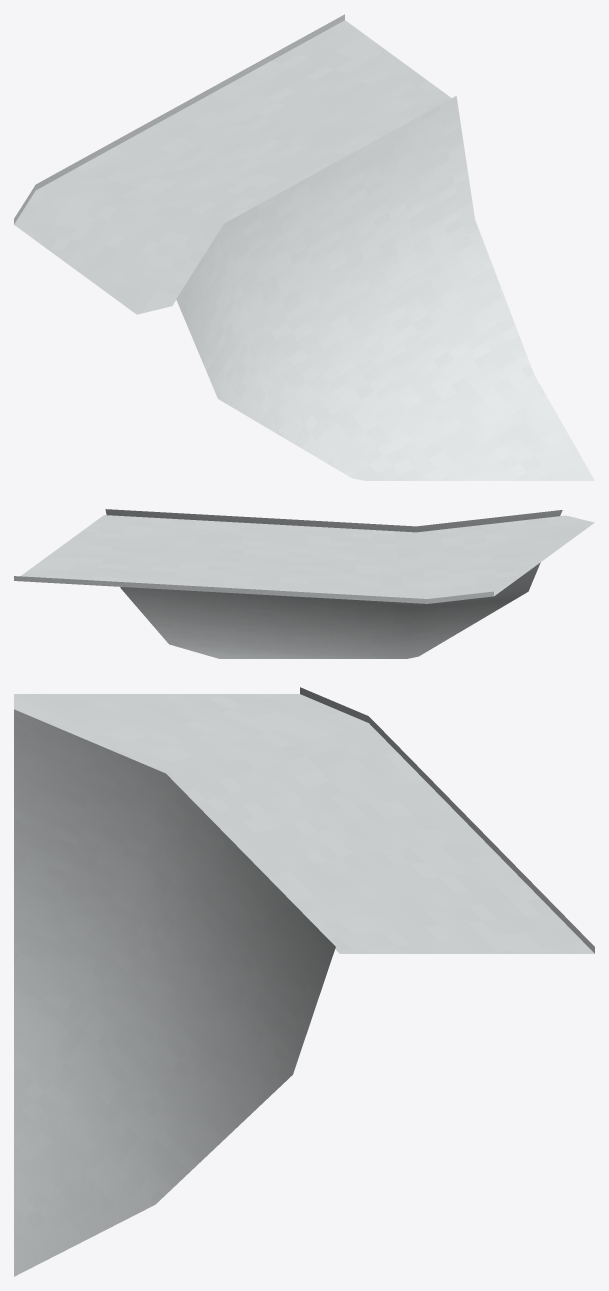
File: bowl_medium_0_1_0.obj
3 renders of one model, top to bottom at view 1: azimuth 30°, elevation 25°; view 2: azimuth 150°, elevation 25°; view 3: azimuth 270°, elevation 25°, orthographic. The views are drawn at different scales.
Visible parts, largest first — view 1: bowl_medium_0_1_0; view 2: bowl_medium_0_1_0; view 3: bowl_medium_0_1_0.
Part boxes in pixels (x1,y1,x2,y2): bowl_medium_0_1_0: [14, 14, 594, 480]; bowl_medium_0_1_0: [14, 509, 594, 658]; bowl_medium_0_1_0: [14, 687, 594, 1276].
Bounding box in the file's own units: 3 × 1.78 × 2.83.
